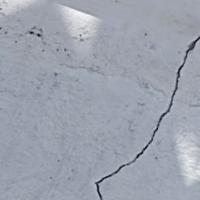crack: (92, 34, 199, 199)
